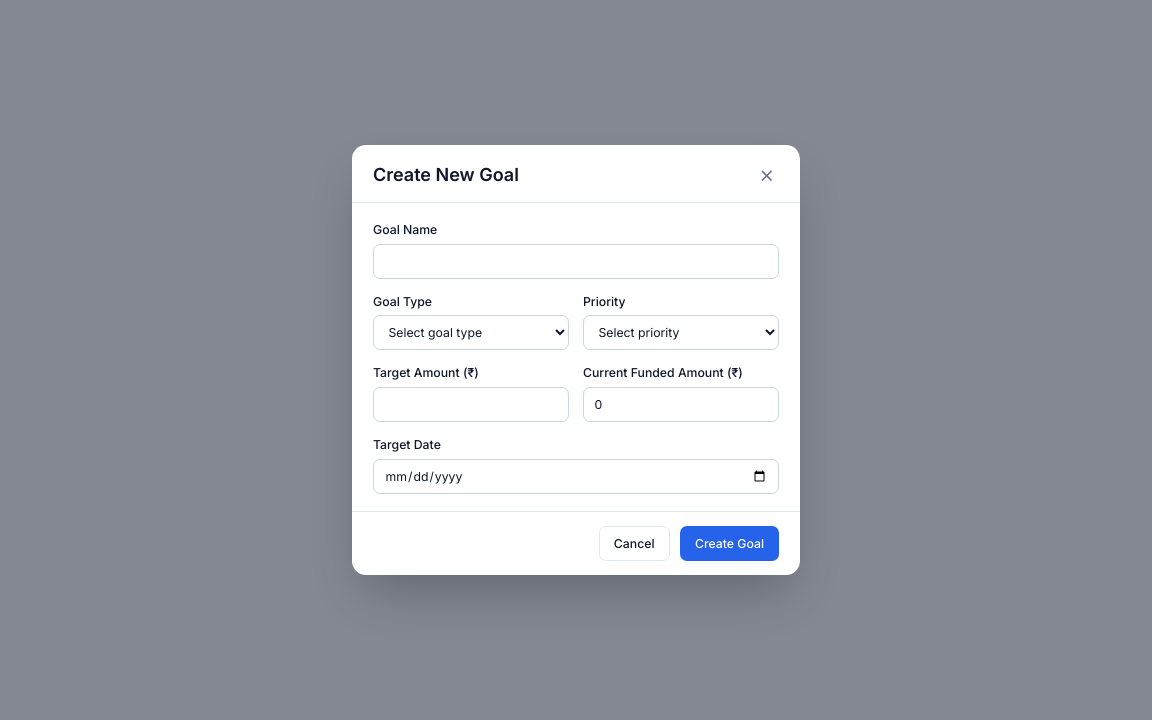
GoalFormModal — Create mode › shows validation error when goal_name is too short
In the field labelled "Goal Name": (576,261) [373, 244, 779, 278], type "A"
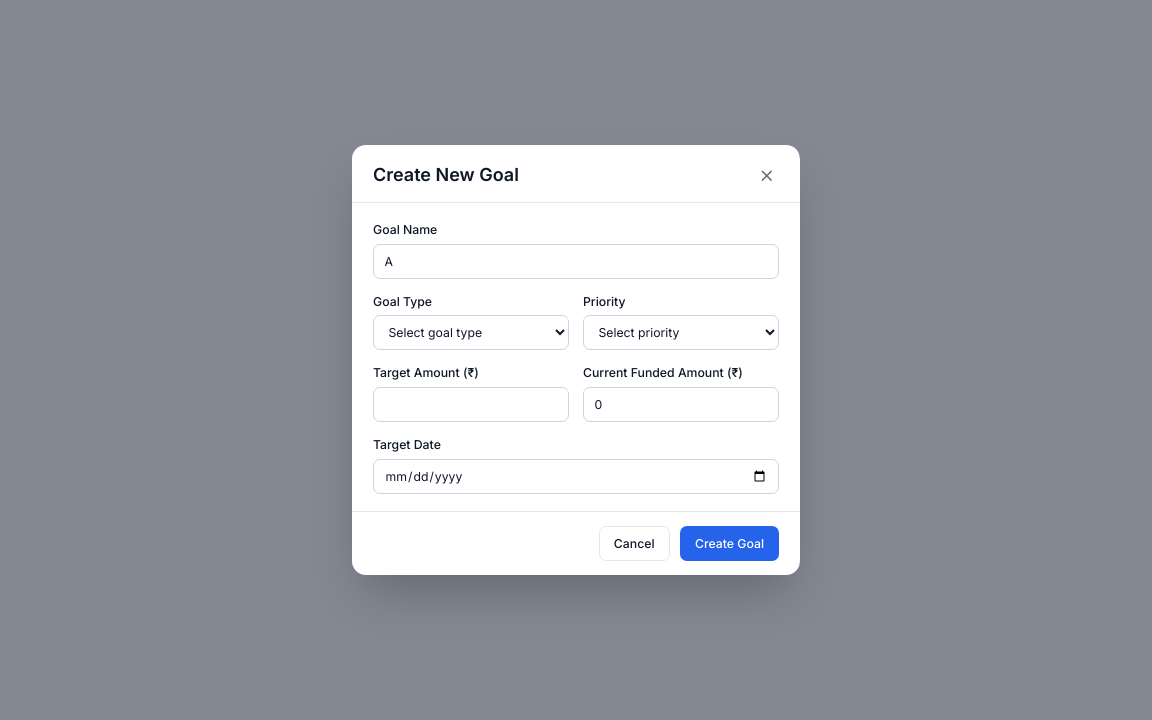
Click the button "Create Goal": (730,544) [680, 526, 779, 561]
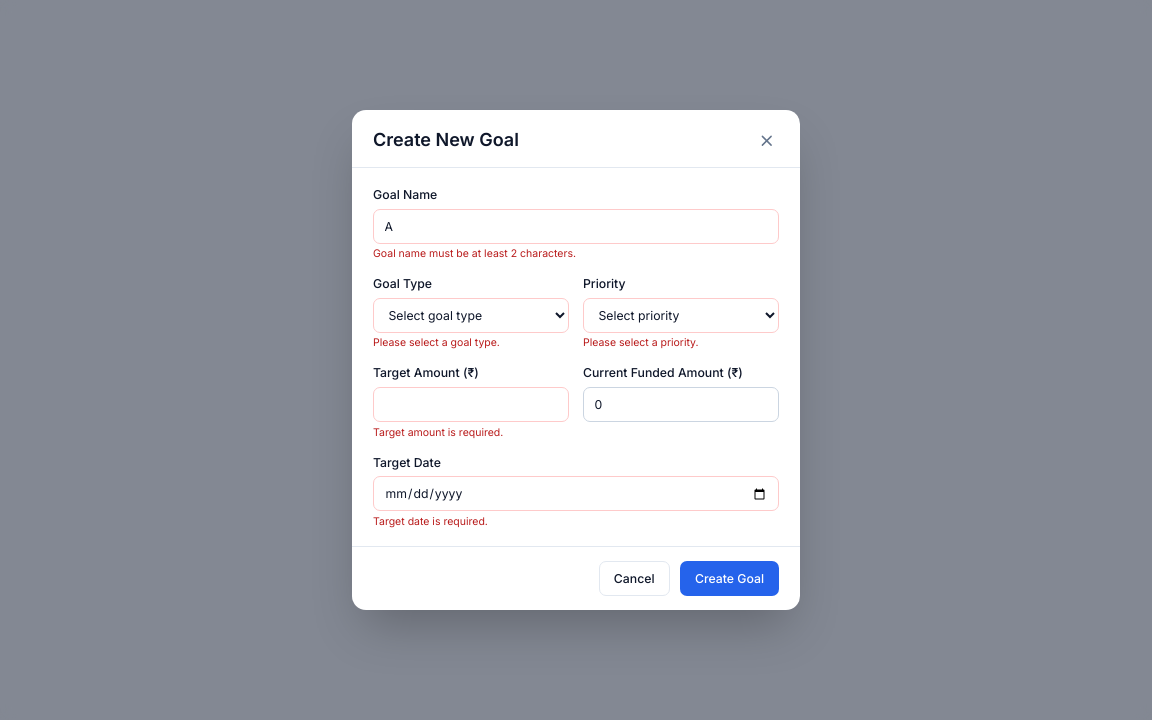
Expected: the text "Goal name must be at least 2 characters." is shown, [373, 247, 576, 260]
